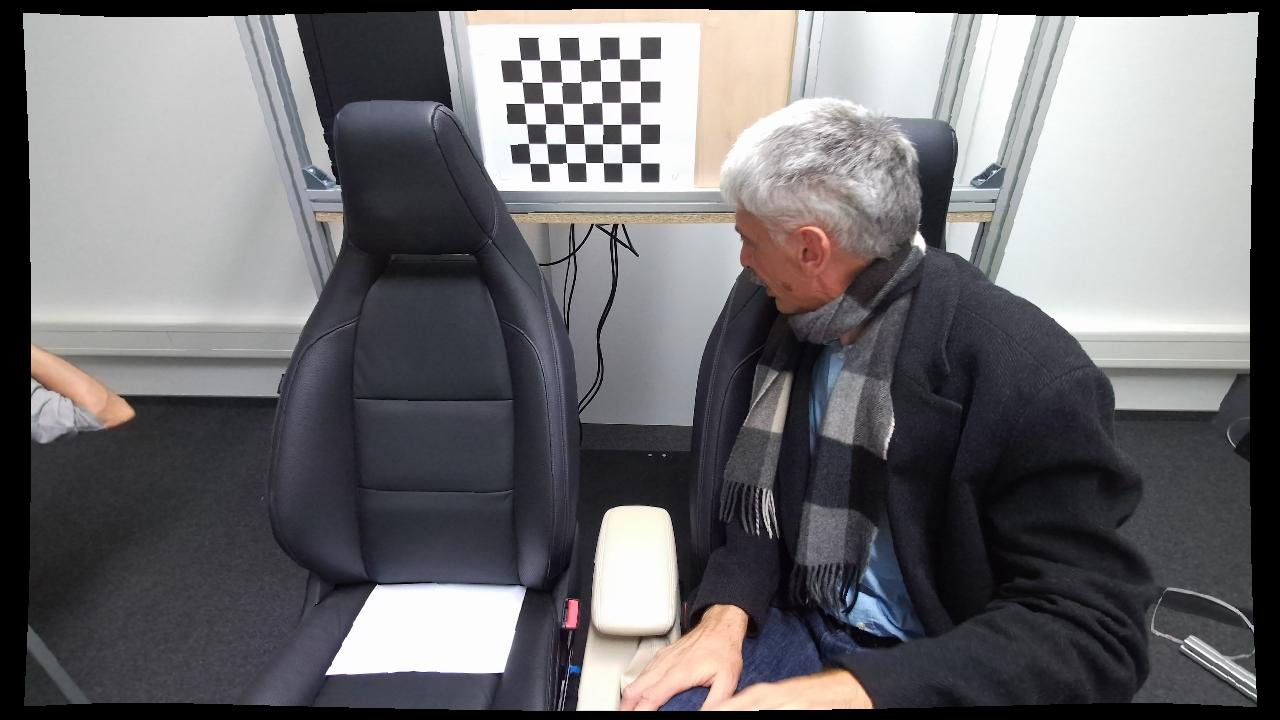Distracted: (691, 87, 1069, 709)
